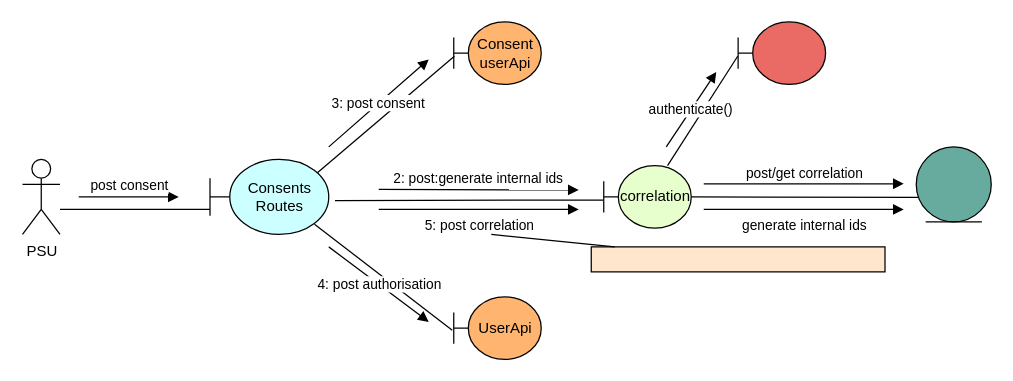
Image size: 1013x381. Some labels were removed from this diagram. The shapes that lost their labels are listed below. From the top down, each one's box as (x1, y1, x2, y2) in pixels, then its label:
(737, 21, 826, 84): RH-SSO
(915, 146, 991, 222): correlation db
(590, 246, 885, 272): authenticate using jwt-validator token
